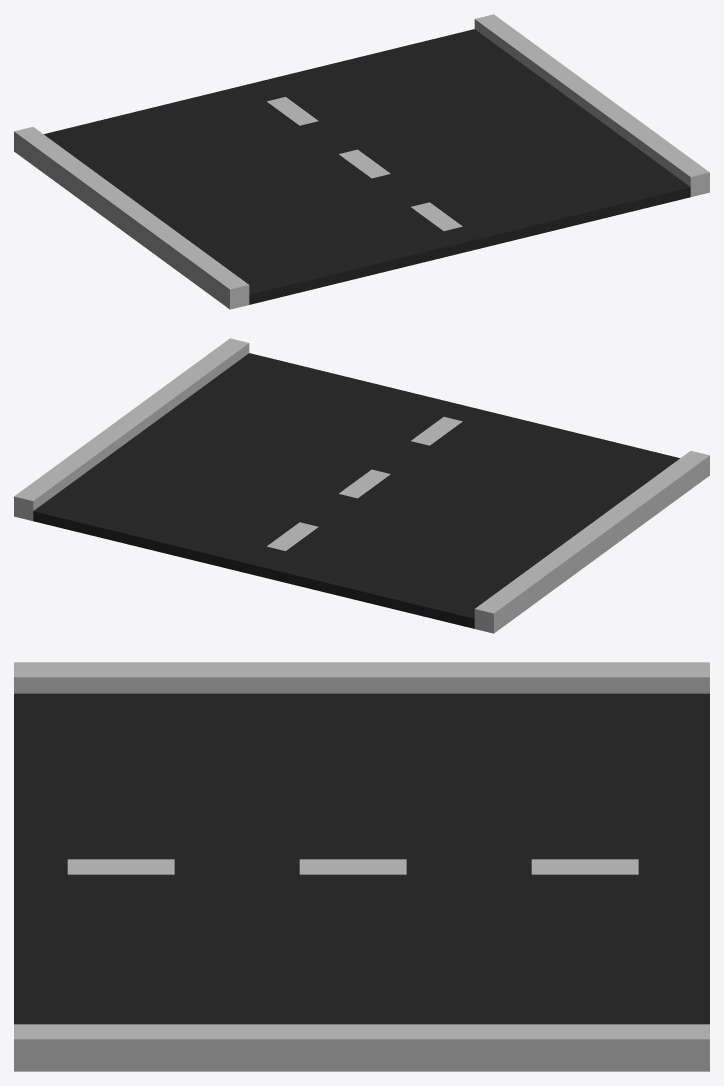
File: All-25-road_1m.obj
3 views of the same model, one above another, from view 1: azimuth 30°, elevation 25°; view 2: azimuth 150°, elevation 25°; view 3: azimuth 270°, elevation 25° (orthographic). The views are drawn at different scales.
Parts seen in each view (by area): view 1: road_1m; view 2: road_1m; view 3: road_1m.
Part boxes in pixels (box(x1,y1,x2,y2)): road_1m: box(14, 14, 709, 309); road_1m: box(14, 338, 709, 633); road_1m: box(14, 662, 709, 1071).
Bounding box in the file's own units: 5 × 0.2 × 3.9.
1 material, 1 textured.
